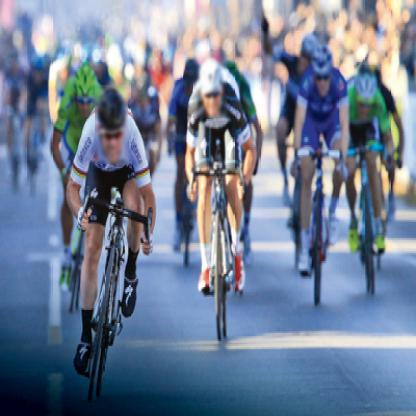Helmet: (199, 50, 232, 118), (96, 91, 127, 163), (304, 44, 337, 102), (356, 66, 380, 127), (72, 54, 96, 113)
